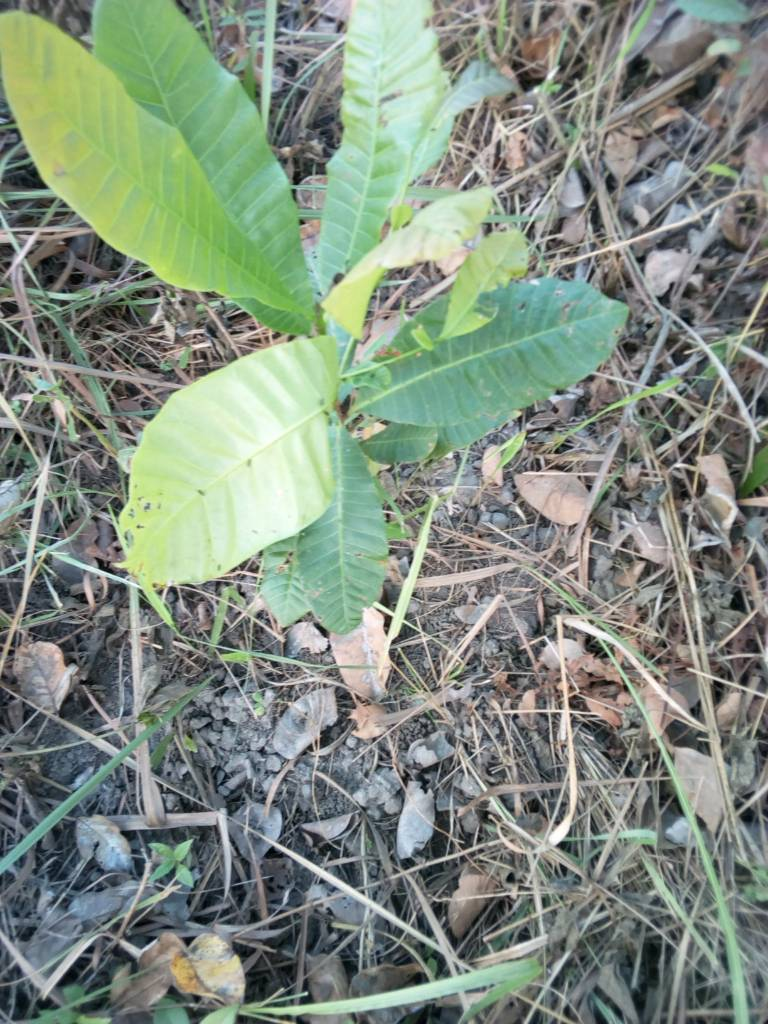Anoplonemis curvipes: (311, 181, 561, 391)
